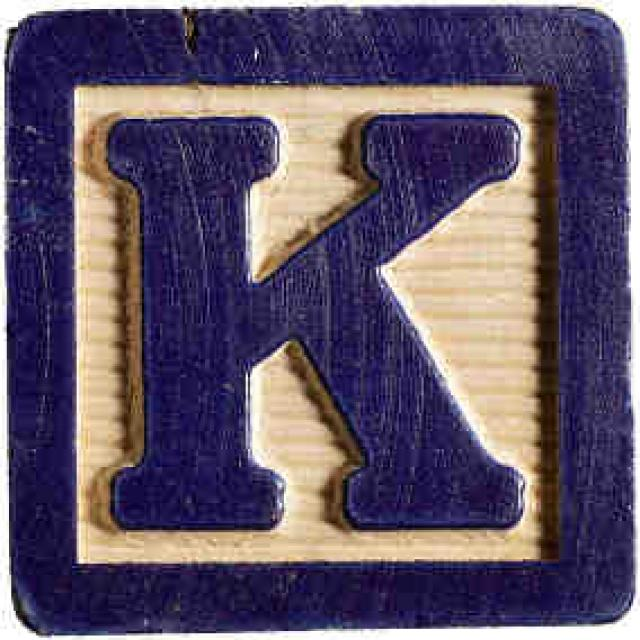K: (94, 100, 549, 555)
